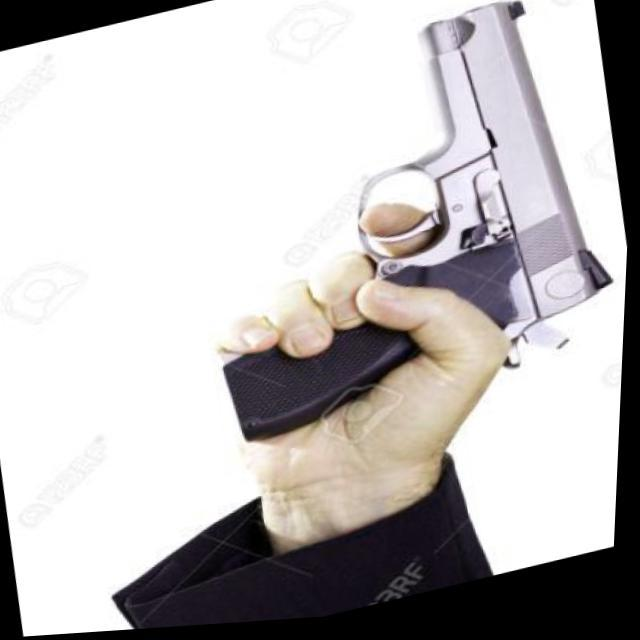weapon: (157, 0, 640, 483)
